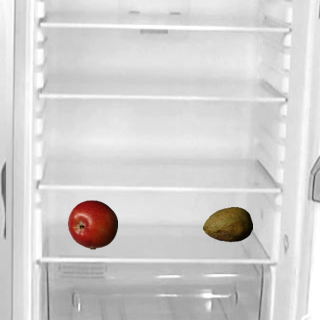Apple Braeburn: (67, 199, 117, 249)
Papaya: (202, 199, 252, 249)
